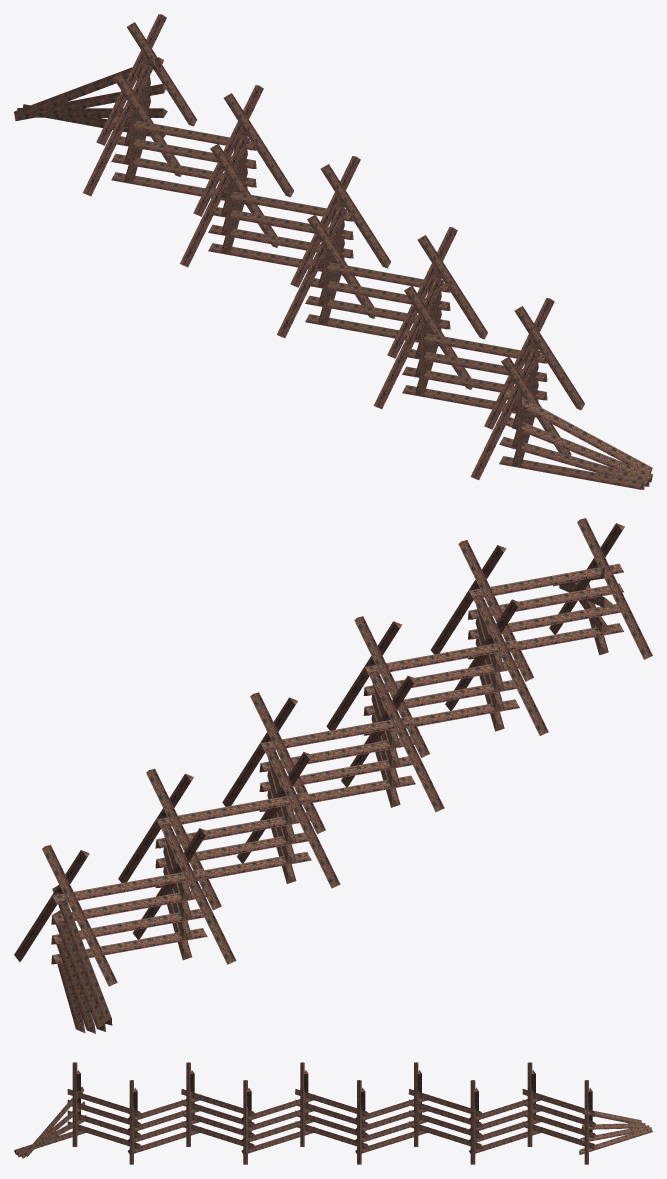
The model's file is fence_boa.obj.
3 views of the same model, one above another, from view 1: azimuth 30°, elevation 25°; view 2: azimuth 150°, elevation 25°; view 3: azimuth 270°, elevation 25° (orthographic). The views are drawn at different scales.
Visible parts, largest first — view 1: Mesh5 Group7 Group6 ske90B1 Model, Mesh8 Group10 Group6 ske90B1 Model, Mesh6 Group8 Group6 ske90B1 Model, Mesh7 Group9 Group6 ske90B1 Model, Mesh59 Group79 Group78 ske90B1 Model, Mesh43 Group55 Group54 ske90B1 Model, Mesh51 Group67 Group66 ske90B1 Model, Mesh45 Group58 Group57 ske90B1 Model, Mesh47 Group61 Group60 ske90B1 Model, Mesh49 Group64 Group63 ske90B1 Model, Mesh54 Group71 Group69 ske90B1 Model, Mesh56 Group74 Group72 ske90B1 Model (+31 smaller); view 2: Mesh47 Group61 Group60 ske90B1 Model, Mesh43 Group55 Group54 ske90B1 Model, Mesh45 Group58 Group57 ske90B1 Model, Mesh49 Group64 Group63 ske90B1 Model, Mesh63 Group84 Group83 ske90B1 Model, Mesh51 Group67 Group66 ske90B1 Model, Mesh55 Group73 Group72 ske90B1 Model, Mesh57 Group76 Group75 ske90B1 Model, Mesh53 Group70 Group69 ske90B1 Model, Mesh41 Group52 Group51 ske90B1 Model, Mesh33 Group42 Group41 ske90B1 Model, Mesh29 Group37 Group36 ske90B1 Model (+31 smaller); view 3: Mesh58 Group77 Group75 ske90B1 Model, Mesh50 Group65 Group63 ske90B1 Model, Mesh52 Group68 Group66 ske90B1 Model, Mesh42 Group53 Group51 ske90B1 Model, Mesh44 Group56 Group54 ske90B1 Model, Mesh17 Group22 Group21 ske90B1 Model, Mesh9 Group12 Group11 ske90B1 Model, Mesh1 Group2 Group1 ske90B1 Model, Mesh29 Group37 Group36 ske90B1 Model, Mesh61 Group81 Group78 ske90B1 Model, Mesh46 Group59 Group57 ske90B1 Model, Mesh54 Group71 Group69 ske90B1 Model (+42 smaller).
Part boxes in pixels (<box>): Mesh5 Group7 Group6 ske90B1 Model: <box>503,390,652,473</box>; Mesh8 Group10 Group6 ske90B1 Model: <box>506,417,652,482</box>; Mesh6 Group8 Group6 ske90B1 Model: <box>499,436,649,486</box>; Mesh7 Group9 Group6 ske90B1 Model: <box>499,456,644,489</box>; Mesh59 Group79 Group78 ske90B1 Model: <box>14,57,163,120</box>; Mesh43 Group55 Group54 ske90B1 Model: <box>373,277,444,409</box>; Mesh51 Group67 Group66 ske90B1 Model: <box>470,348,541,480</box>; Mesh45 Group58 Group57 ske90B1 Model: <box>277,206,347,338</box>; Mesh47 Group61 Group60 ske90B1 Model: <box>180,135,250,267</box>; Mesh49 Group64 Group63 ske90B1 Model: <box>83,64,153,196</box>; Mesh54 Group71 Group69 ske90B1 Model: <box>417,235,487,339</box>; Mesh56 Group74 Group72 ske90B1 Model: <box>320,164,390,268</box>; Mesh47 Group61 Group60 ske90B1 Model: <box>265,747,340,888</box>; Mesh43 Group55 Group54 ske90B1 Model: <box>473,594,548,735</box>; Mesh45 Group58 Group57 ske90B1 Model: <box>369,670,444,811</box>; Mesh49 Group64 Group63 ske90B1 Model: <box>160,823,236,964</box>; Mesh63 Group84 Group83 ske90B1 Model: <box>42,845,117,986</box>; Mesh51 Group67 Group66 ske90B1 Model: <box>577,518,652,659</box>; Mesh55 Group73 Group72 ske90B1 Model: <box>250,692,325,834</box>; Mesh57 Group76 Group75 ske90B1 Model: <box>146,768,221,910</box>; Mesh53 Group70 Group69 ske90B1 Model: <box>354,616,429,757</box>; Mesh41 Group52 Group51 ske90B1 Model: <box>458,540,533,681</box>; Mesh33 Group42 Group41 ske90B1 Model: <box>51,868,207,904</box>; Mesh29 Group37 Group36 ske90B1 Model: <box>155,792,311,828</box>; Mesh58 Group77 Group75 ske90B1 Model: <box>470,1080,475,1164</box>; Mesh50 Group65 Group63 ske90B1 Model: <box>527,1062,532,1146</box>; Mesh52 Group68 Group66 ske90B1 Model: <box>72,1062,77,1146</box>; Mesh42 Group53 Group51 ske90B1 Model: <box>129,1080,133,1164</box>; Mesh44 Group56 Group54 ske90B1 Model: <box>186,1062,190,1146</box>; Mesh17 Group22 Group21 ske90B1 Model: <box>295,1089,368,1116</box>; Mesh9 Group12 Group11 ske90B1 Model: <box>181,1089,254,1116</box>; Mesh1 Group2 Group1 ske90B1 Model: <box>67,1089,140,1116</box>; Mesh29 Group37 Group36 ske90B1 Model: <box>408,1089,482,1116</box>; Mesh61 Group81 Group78 ske90B1 Model: <box>579,1127,652,1154</box>; Mesh46 Group59 Group57 ske90B1 Model: <box>300,1062,304,1146</box>; Mesh54 Group71 Group69 ske90B1 Model: <box>243,1080,247,1164</box>.
Size of the model in its own units: 105 by 73.43 by 617.
